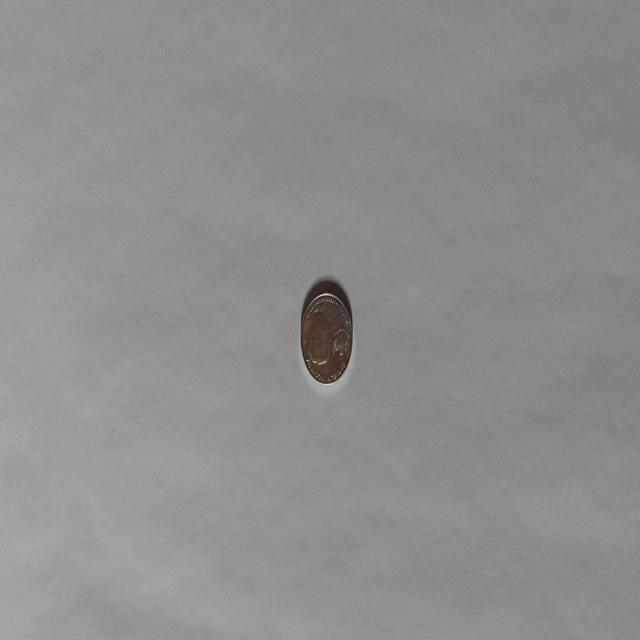seratus rupiah: (300, 287, 352, 385)
